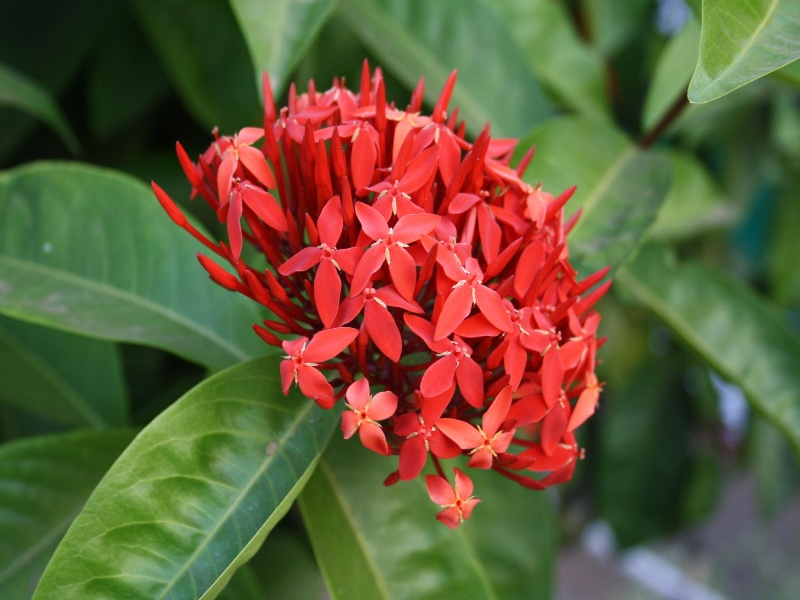Ixora: (128, 37, 662, 535)
